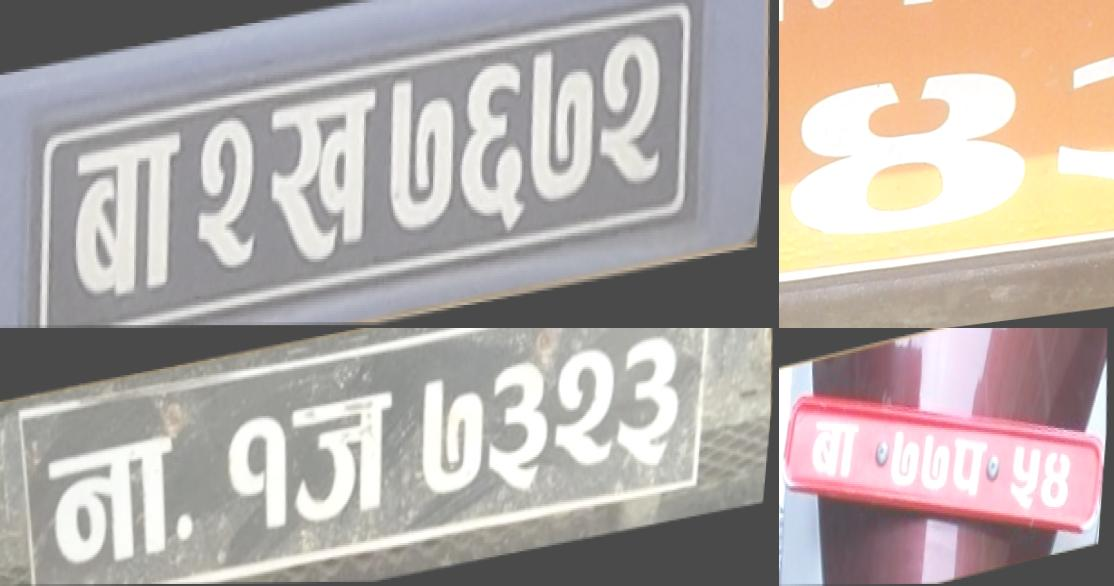1: (210, 396, 303, 556)
2: (584, 17, 685, 213), (187, 110, 276, 288), (545, 334, 629, 484)
3: (1029, 12, 1114, 216), (476, 349, 564, 508), (606, 328, 694, 474)
4: (779, 46, 1065, 253), (1040, 447, 1077, 510)
5: (1009, 436, 1046, 514)
6: (450, 47, 544, 240)
7: (516, 25, 615, 218), (378, 65, 474, 253), (409, 356, 498, 506), (919, 429, 955, 494), (889, 424, 924, 489)
ba: (62, 116, 206, 321), (810, 409, 861, 487)
ja: (280, 372, 410, 540)
ka: (31, 412, 191, 586)
kha: (258, 80, 397, 305)
pa: (951, 425, 992, 507)
